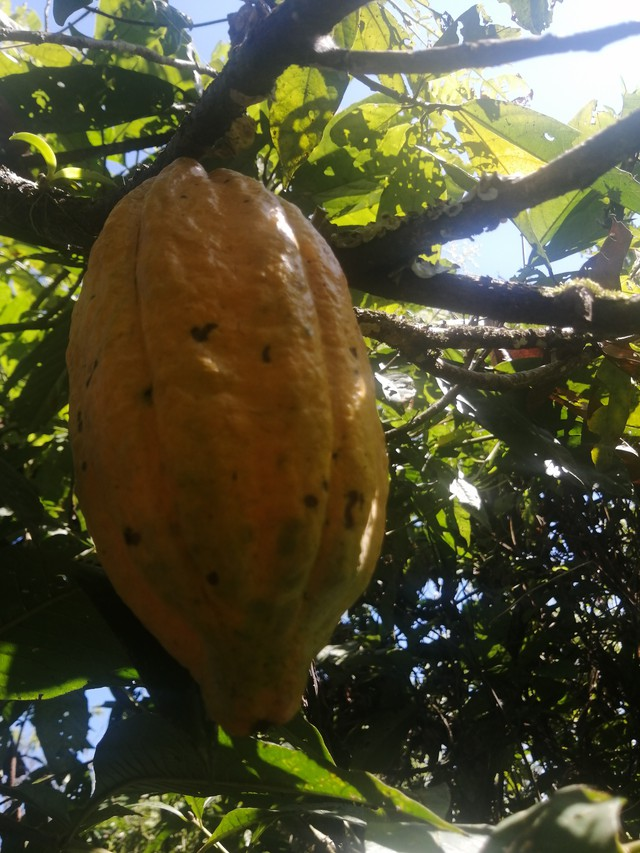moniliophthora perniciosa: (48, 159, 407, 745)
